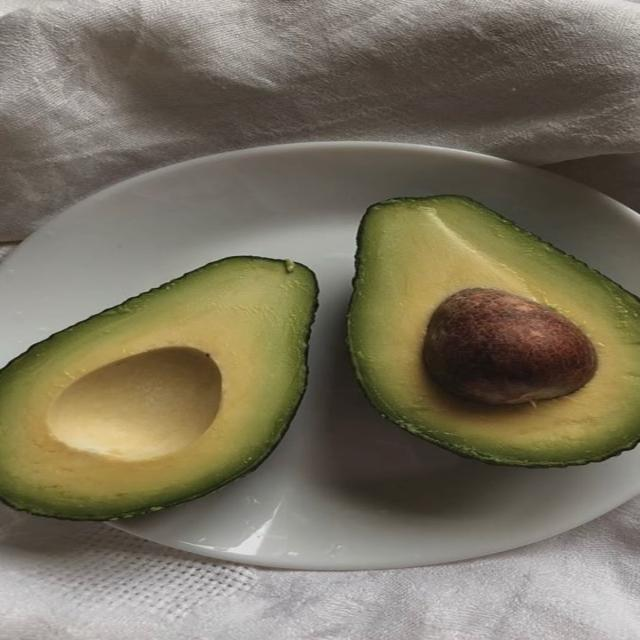avocado: (0, 257, 317, 519), (348, 196, 639, 466)
